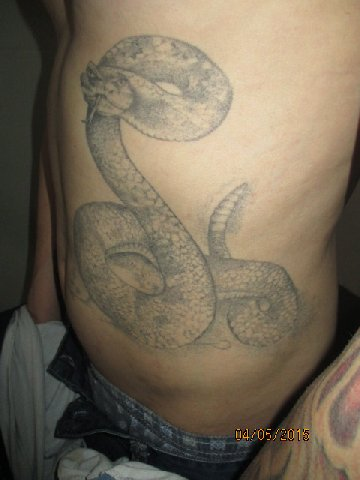tatu7_zmeya: (59, 26, 331, 377)
